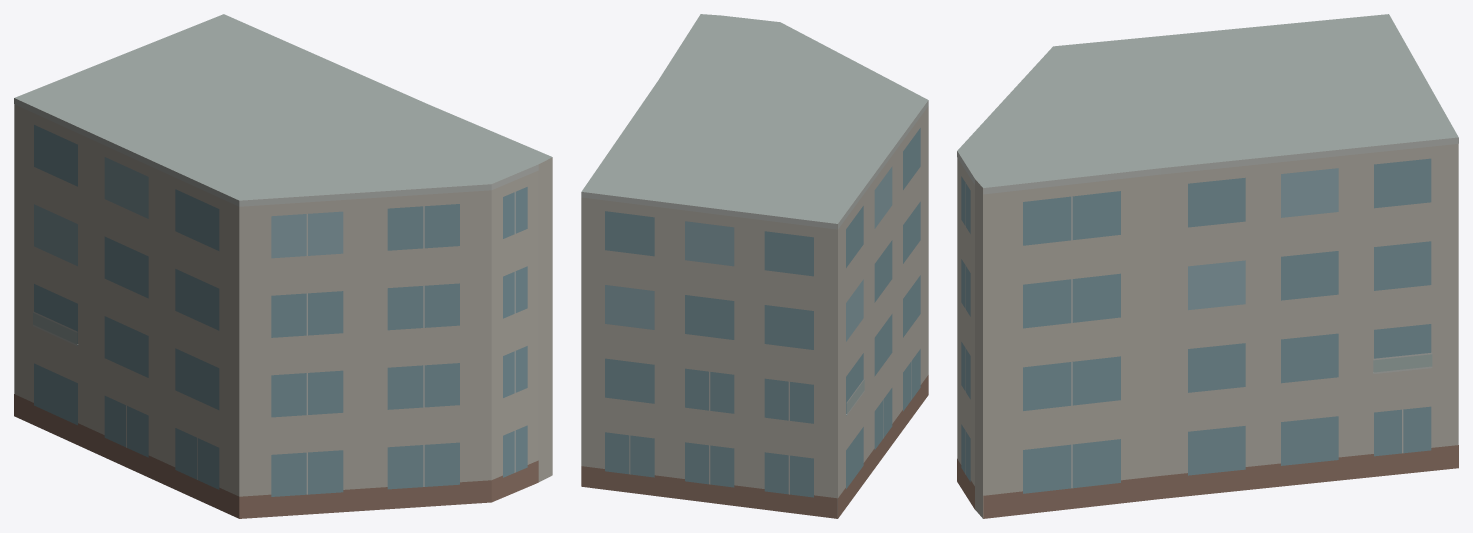
File: survey-upis-32564271.glb
3 renders of one model, left to right at view 1: azimuth 30°, elevation 25°; view 2: azimuth 150°, elevation 25°; view 3: azimuth 270°, elevation 25°, orthographic. The views are drawn at different scales.
Parts seen in each view (by area): view 1: survey-upis-32564271.tmp; view 2: survey-upis-32564271.tmp; view 3: survey-upis-32564271.tmp.
Part boxes in pixels (box(x1,y1,x2,y2)): survey-upis-32564271.tmp: box(14, 14, 552, 518); survey-upis-32564271.tmp: box(581, 14, 928, 518); survey-upis-32564271.tmp: box(957, 14, 1458, 518).
Size of the model in its own units: 14.35 by 12.7 by 17.47.
